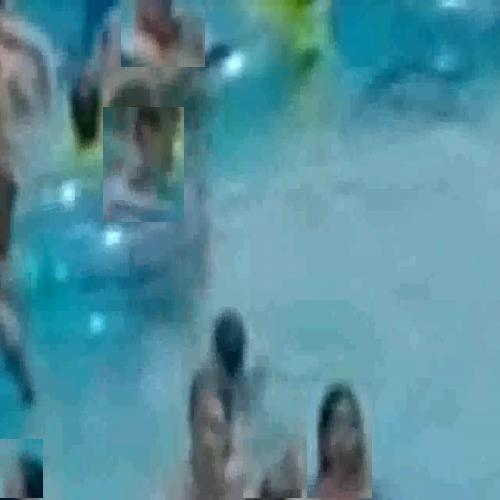drowning: (209, 297, 268, 384)
swimming: (103, 107, 185, 223), (307, 382, 373, 499), (121, 0, 206, 68), (186, 387, 236, 499), (58, 60, 99, 149), (243, 439, 303, 499), (0, 439, 44, 499)
